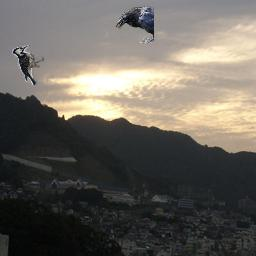Crow: (116, 6, 154, 44)
Woodpecker: (12, 45, 44, 85)
